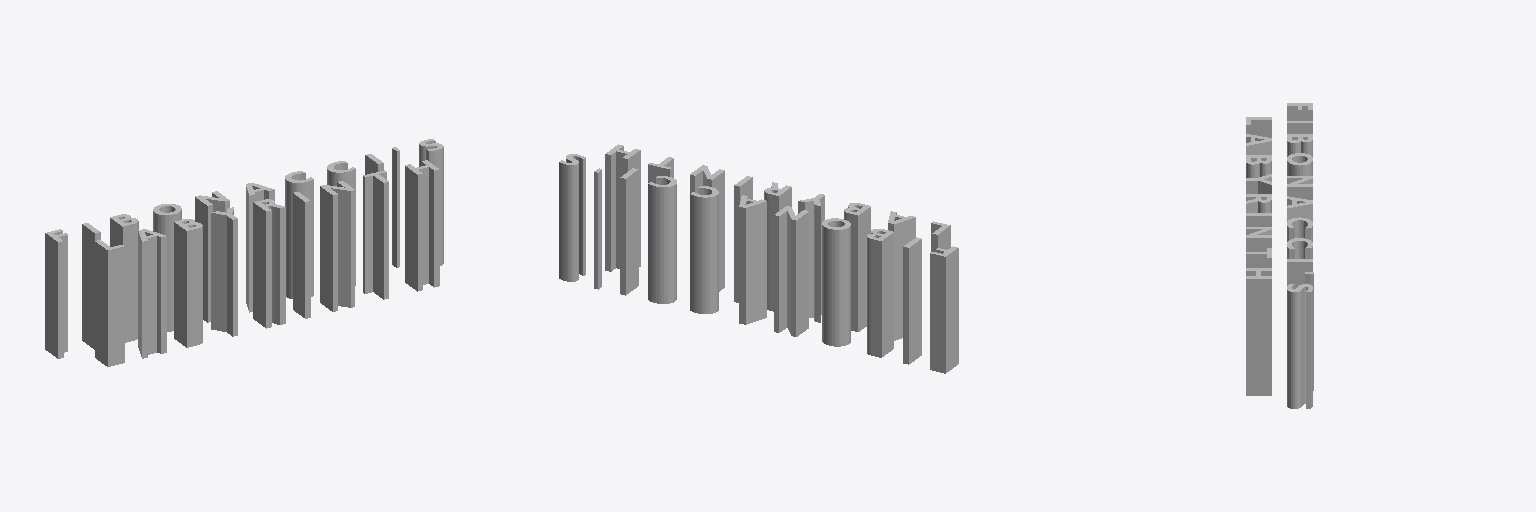
Rendered from fibLabText.obj.
The picture shows the model from 3 angles: view 1: azimuth 30°, elevation 25°; view 2: azimuth 150°, elevation 25°; view 3: azimuth 270°, elevation 25°; orthographic projection.
Bounding box in the file's own units: 17.39 × 5 × 2.65.